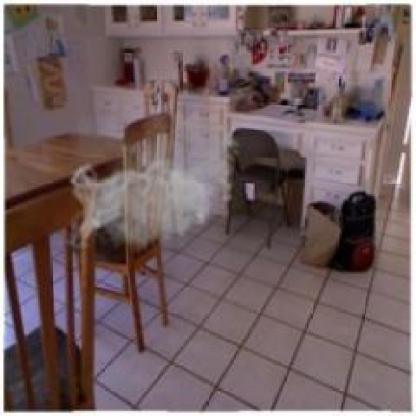Smoke: (67, 115, 245, 257)
